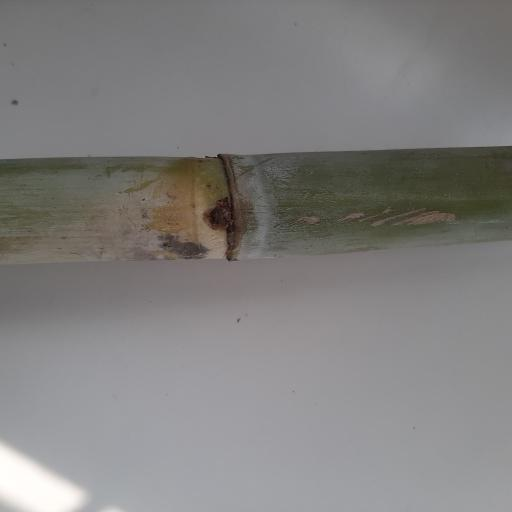Bud: (206, 204, 232, 229)
